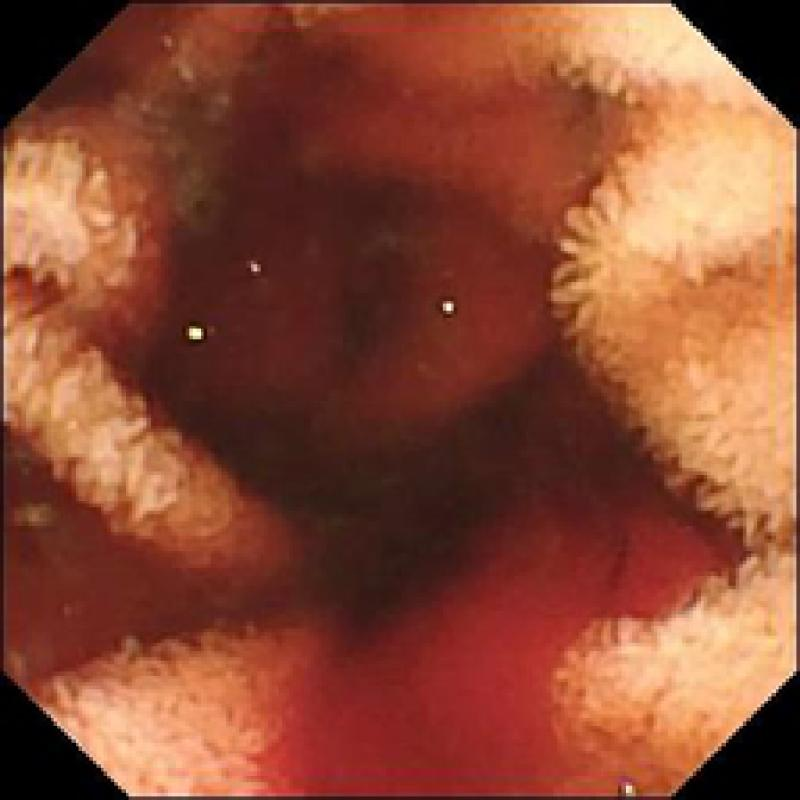bleeding: (286, 507, 714, 800), (193, 111, 546, 432)
